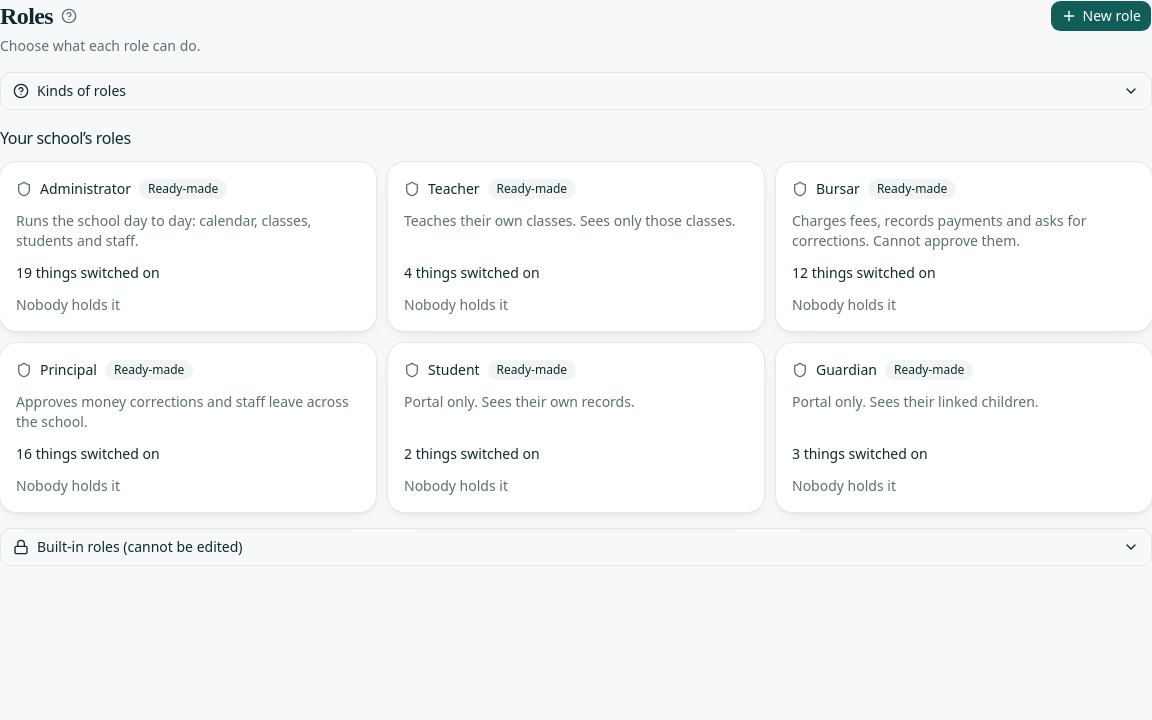
it: RolesPage › badges Owner and Member as built in and shows who holds them
Check: the element "Your school’s roles" is shown, box [0, 126, 1151, 512]
Click the button "Built-in roles (cannot be edited)": click(140, 546) [1, 529, 1151, 565]
(page scrolled)
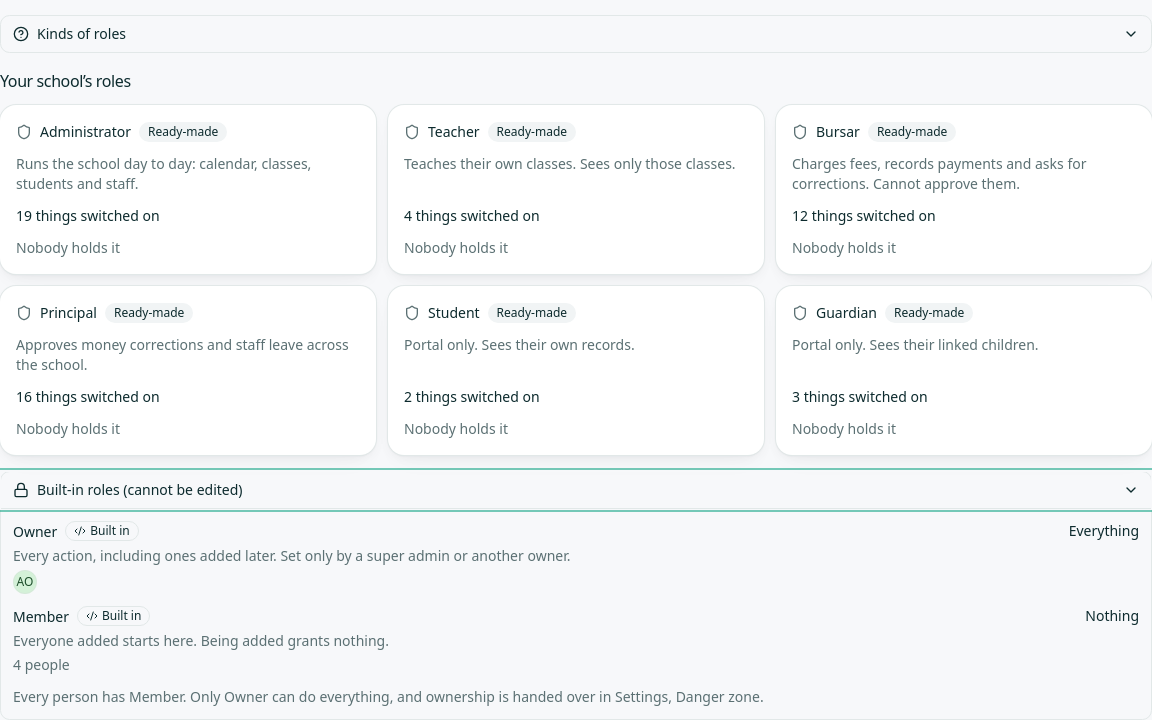
Check: the text "Built in" is shown 2 times, box [65, 521, 139, 541]; [77, 606, 150, 626]
Check: the text "AO" is shown, box [13, 570, 37, 594]
Check: the text "4 people" is shown, box [13, 655, 70, 674]
